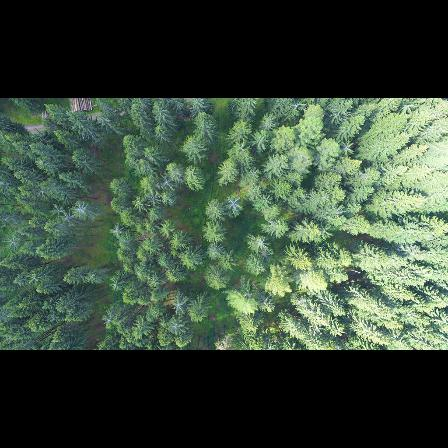Sick: (225, 194, 246, 215), (170, 293, 188, 315), (1, 233, 21, 251), (145, 189, 163, 209), (167, 317, 189, 333), (108, 220, 125, 238), (160, 172, 177, 189), (71, 202, 91, 215)
